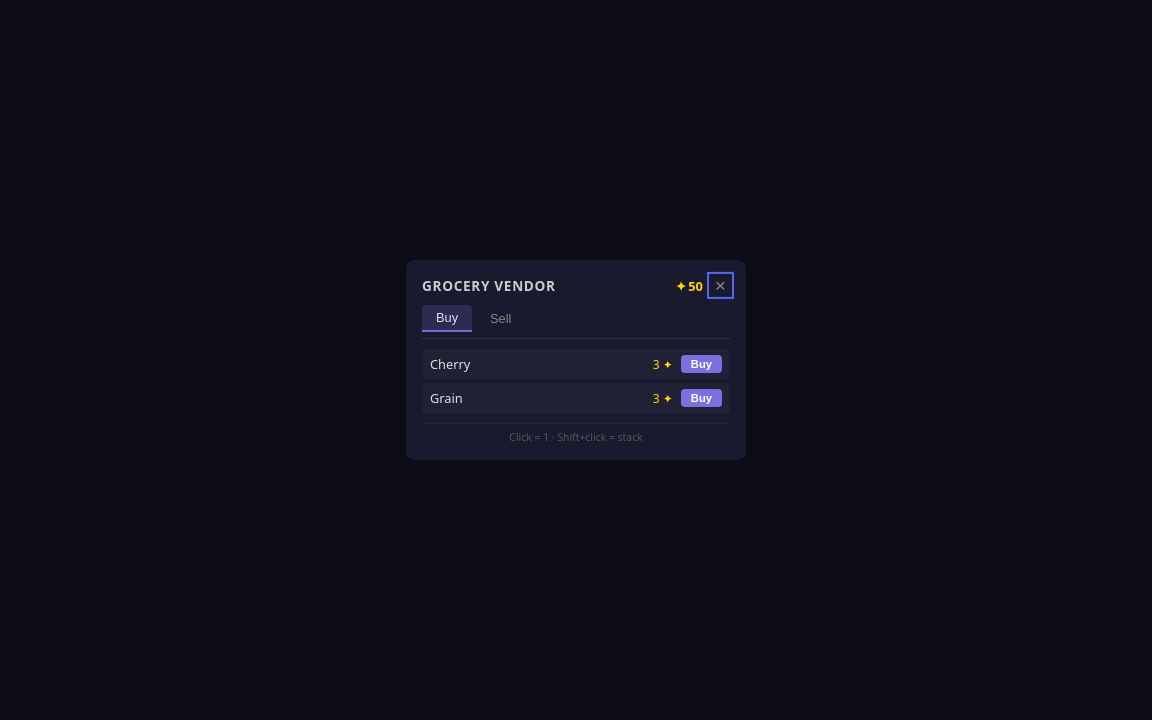
ShopPanel › shows sell tab with player inventory
Click the tab "Sell". click: click(501, 319)
box: left=476, top=305, right=525, bottom=332
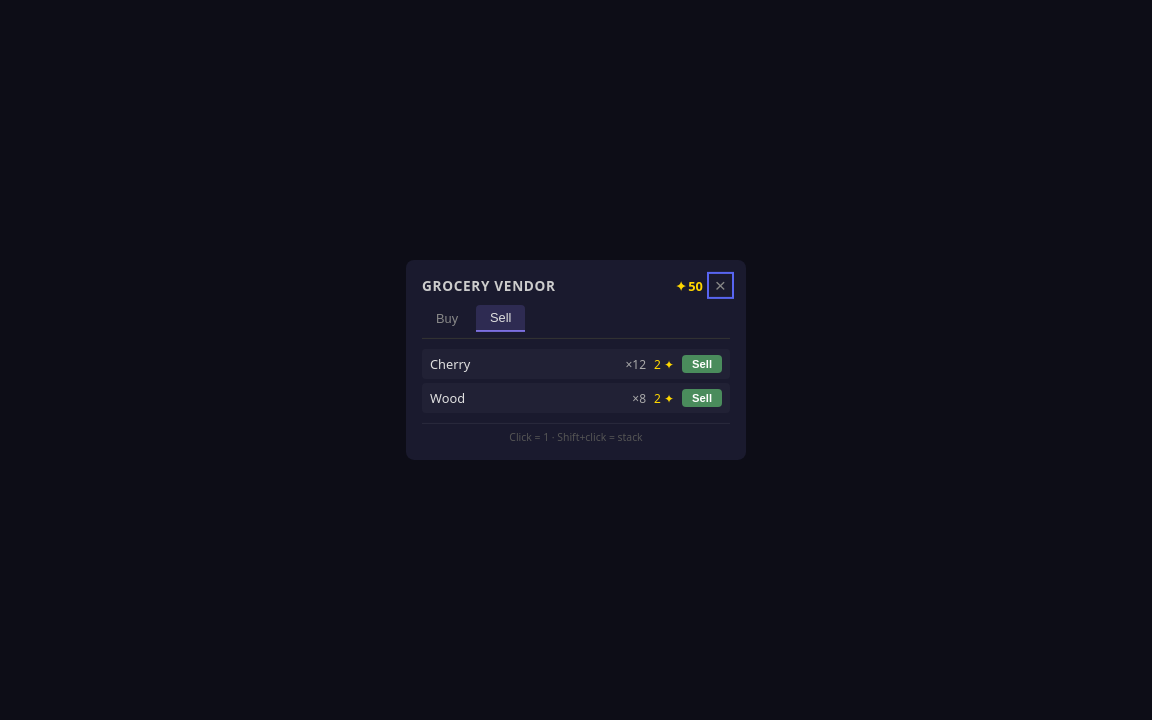
Now the text "Wood" is shown, box left=430, top=389, right=465, bottom=407
Now the text "×8" is shown, box left=632, top=390, right=646, bottom=407
